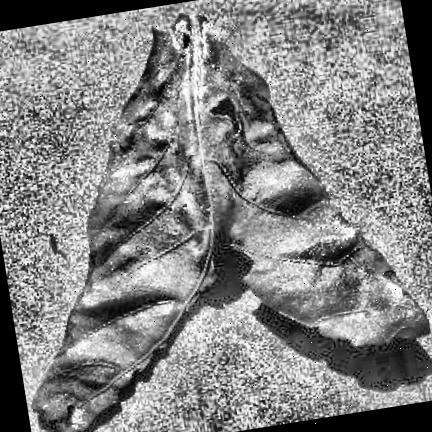leaf: (32, 15, 428, 432)
